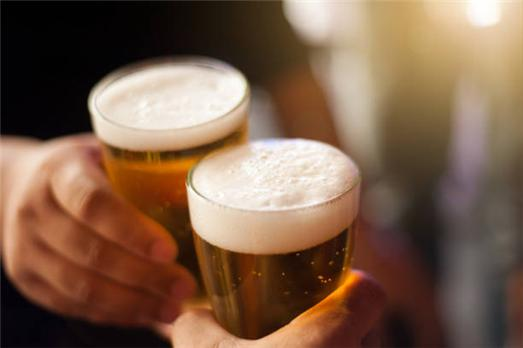alcohol: (187, 142, 358, 337), (86, 53, 247, 258)
